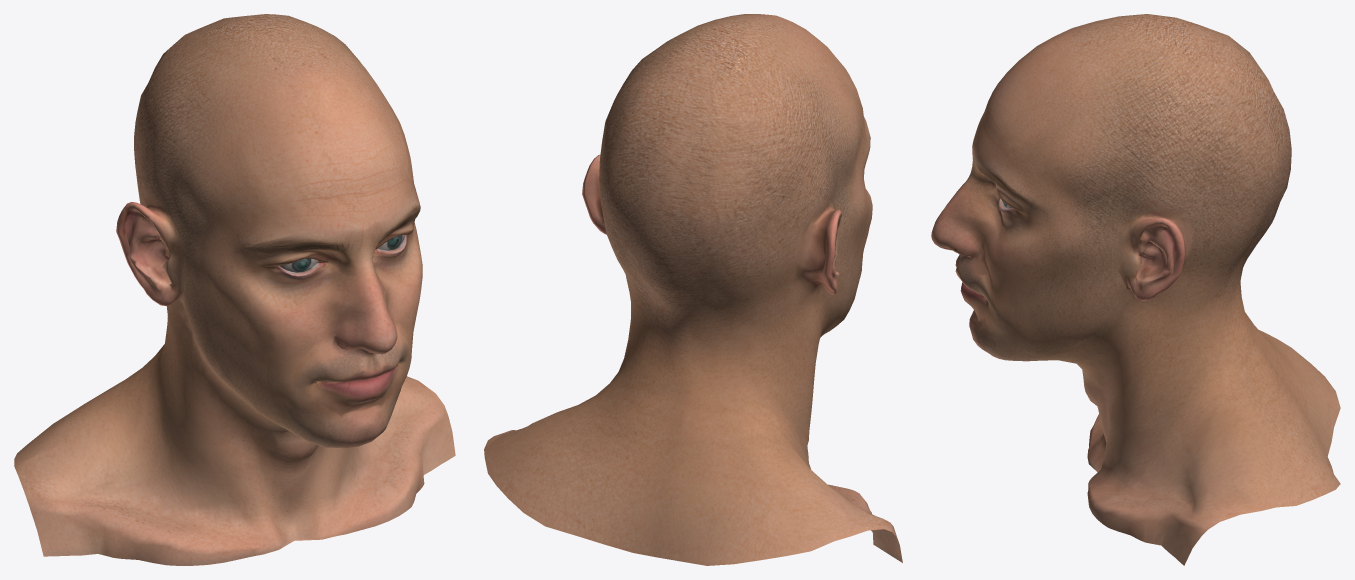
Rendered from male-a-head-p2-v1.fbx.
The picture shows the model from 3 angles, left to right: view 1: azimuth 30°, elevation 25°; view 2: azimuth 150°, elevation 25°; view 3: azimuth 270°, elevation 25°; orthographic projection. The views are drawn at different scales.
Parts seen in each view (by area): view 1: tripo_979105c8_24e8_4838_a273_4fea2e097ac9; view 2: tripo_979105c8_24e8_4838_a273_4fea2e097ac9; view 3: tripo_979105c8_24e8_4838_a273_4fea2e097ac9.
Boxes of the visible parts, <box> form: tripo_979105c8_24e8_4838_a273_4fea2e097ac9: <box>14,14,455,565</box>; tripo_979105c8_24e8_4838_a273_4fea2e097ac9: <box>484,14,902,565</box>; tripo_979105c8_24e8_4838_a273_4fea2e097ac9: <box>931,14,1340,565</box>.
Size of the model in its own units: 0.8774 by 0.9995 by 0.8218.
1 material, 1 textured.
